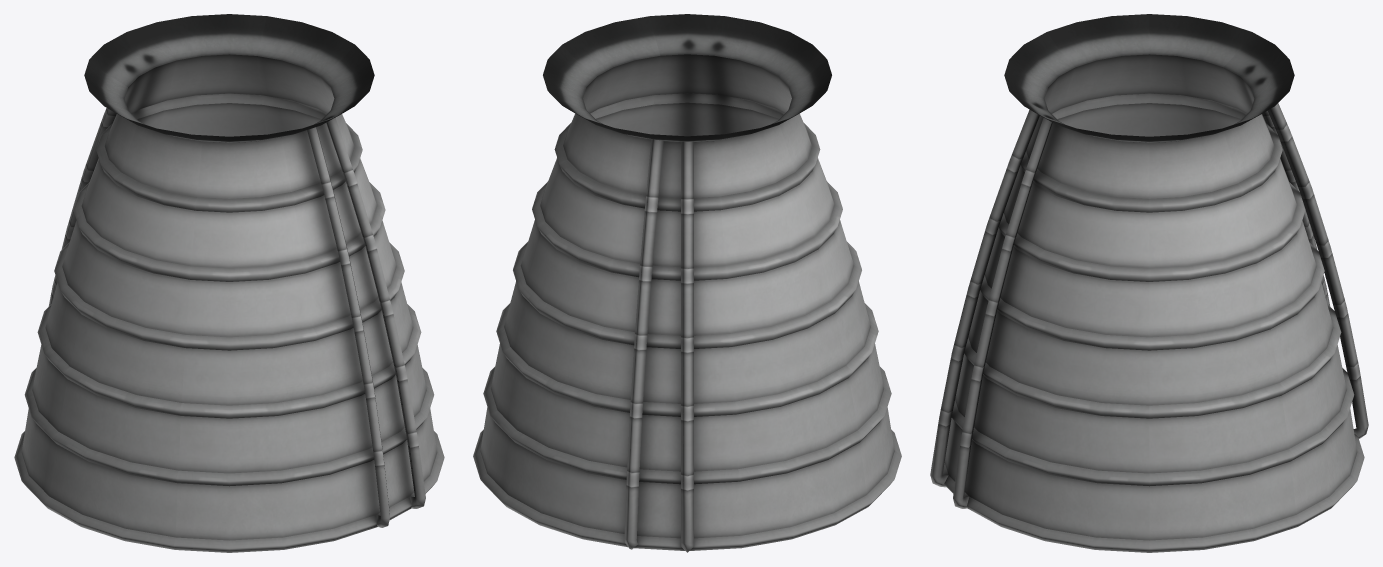
Rendered from RLV_1_Engine_1_Nozzle.obj.
The picture shows the model from 3 angles, left to right: view 1: azimuth 30°, elevation 25°; view 2: azimuth 150°, elevation 25°; view 3: azimuth 270°, elevation 25°; orthographic projection.
Visible parts, largest first — view 1: RLV_1_Engine_1_Nozzle; view 2: RLV_1_Engine_1_Nozzle; view 3: RLV_1_Engine_1_Nozzle.
Part boxes in pixels (<box>): RLV_1_Engine_1_Nozzle: <box>14,14,444,552</box>; RLV_1_Engine_1_Nozzle: <box>473,14,901,552</box>; RLV_1_Engine_1_Nozzle: <box>930,14,1368,552</box>.
Size of the model in its own units: 1.67 by 1.66 by 1.7.
